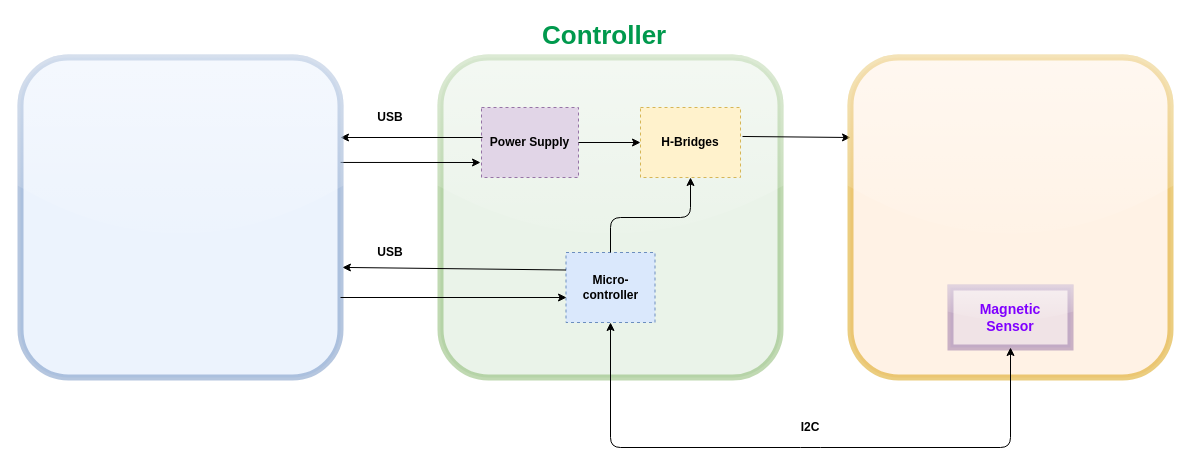
Image size: 1190x474. Some labels were removed from this diagram. Each missing label, with the box of its shape:
Computer: (17, 54, 343, 380)
Helmholtz Coils: (847, 54, 1173, 380)
